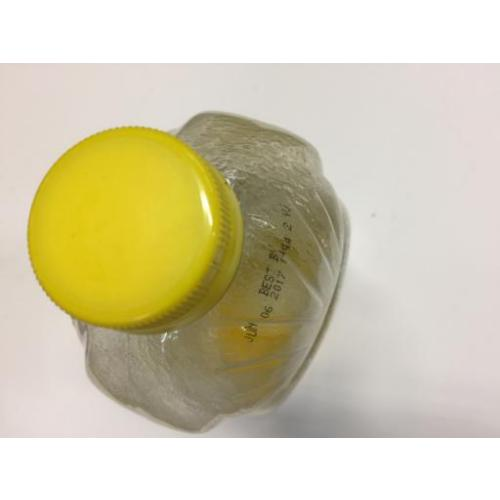plastic: (27, 112, 346, 435)
